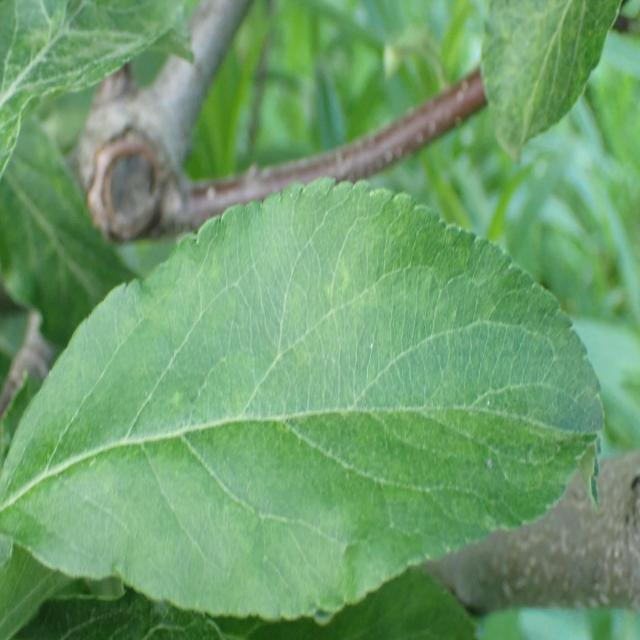scab: (18, 254, 548, 533)
